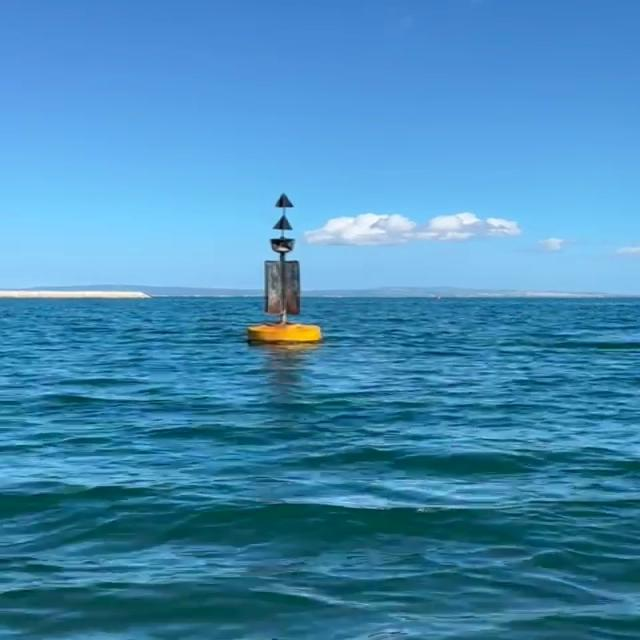marque: (252, 193, 322, 350)
